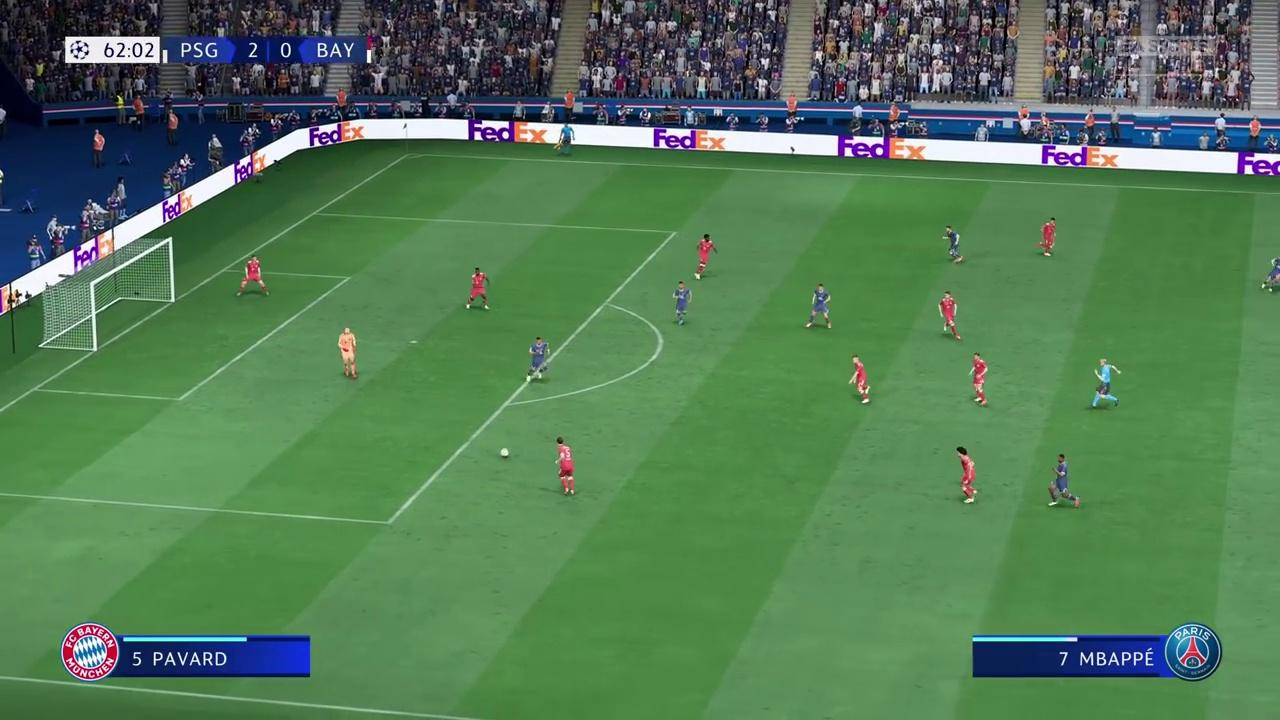scoreboard: (169, 35, 373, 65)
timestamp: (63, 36, 163, 65)
